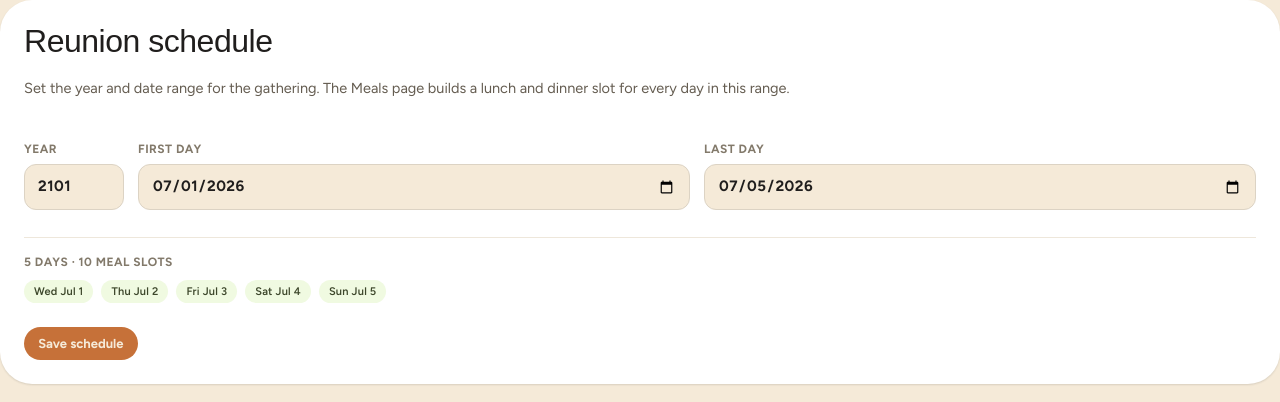
Test: CAP-008 · The reunion year must be between 2000 and 2100 (UI surfaces the refusal) › shows the server’s refusal message next to "Save schedule"
The image size is (1280, 402).
Click the button "Save schedule": (81, 344) top-left (24, 327), bottom-right (138, 360)
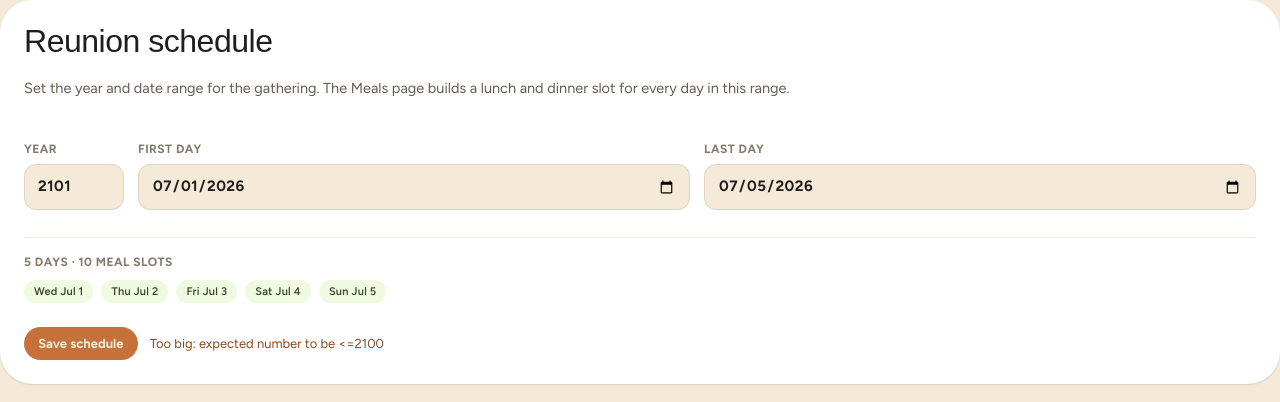
Result: the text "Too big: expected number to be <=2100" is shown at top-left (150, 334), bottom-right (384, 354)
